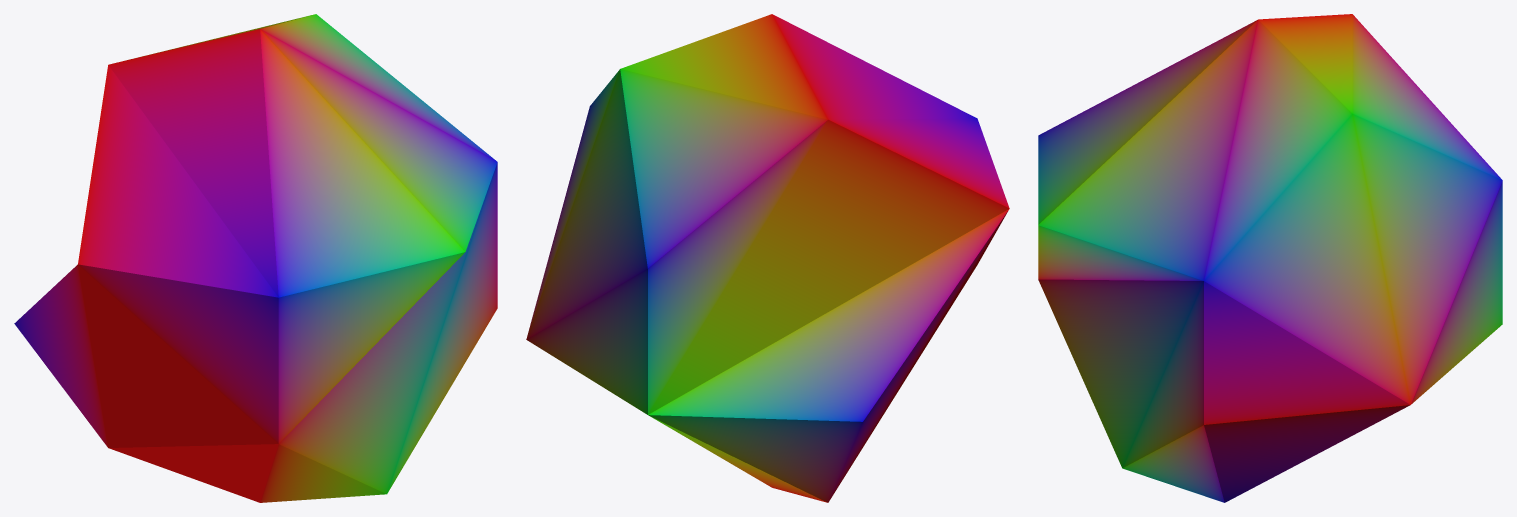
Rendered from all_7.obj.
3 views of the same model, side by side, from view 1: azimuth 30°, elevation 25°; view 2: azimuth 150°, elevation 25°; view 3: azimuth 270°, elevation 25° (orthographic).
Bounding box in the file's own units: 1.85 × 2 × 1.81.
